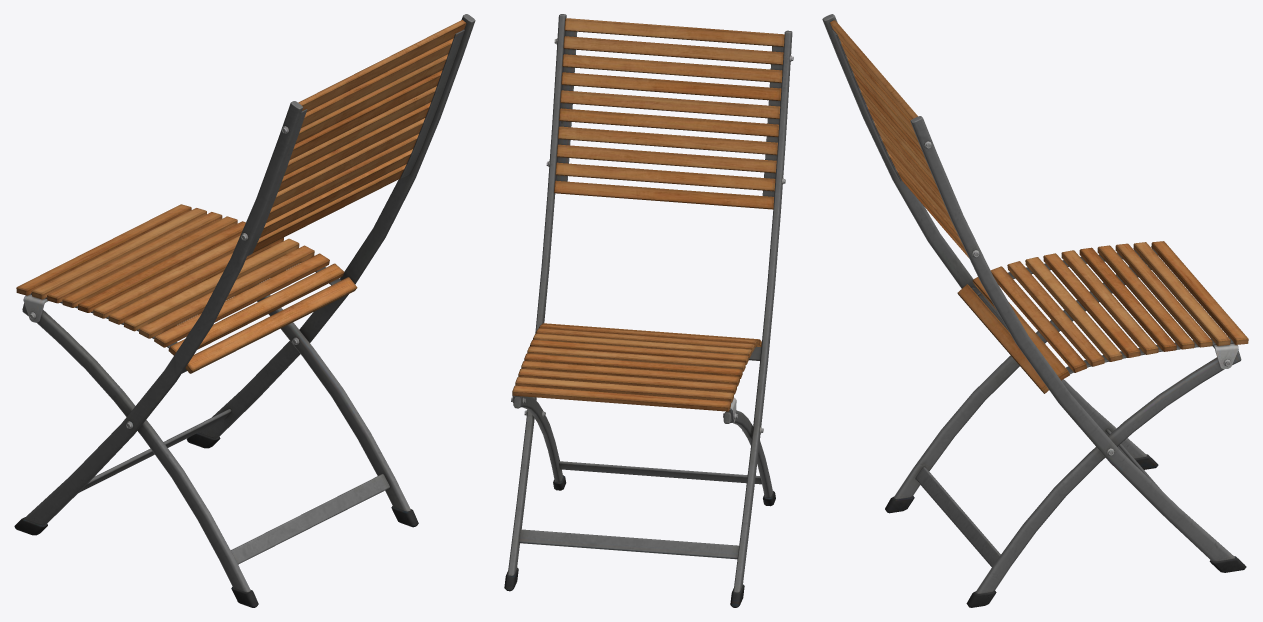
File: terrace_chair.glb
3 renders of one model, left to right at view 1: azimuth 30°, elevation 25°; view 2: azimuth 150°, elevation 25°; view 3: azimuth 270°, elevation 25°, orthographic. The views are drawn at different scales.
Visible parts, largest first — view 1: outdoor_table_chair_set_01_chair_01; view 2: outdoor_table_chair_set_01_chair_01; view 3: outdoor_table_chair_set_01_chair_01.
Boxes of the visible parts, box(x1,y1,x2,y2) form: outdoor_table_chair_set_01_chair_01: box(14, 14, 475, 607); outdoor_table_chair_set_01_chair_01: box(504, 14, 793, 607); outdoor_table_chair_set_01_chair_01: box(822, 14, 1248, 607).
Size of the model in its own units: 0.5741 by 0.8586 by 0.6612.
Materials: 1 (1 with a texture image).
